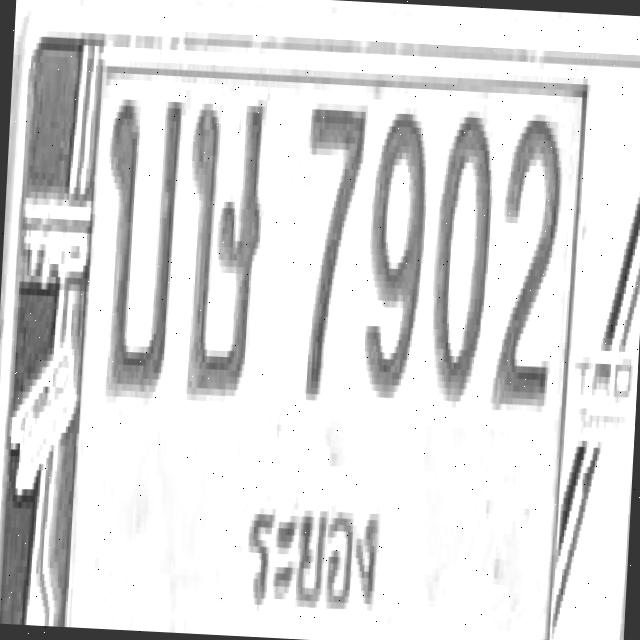0: (427, 110, 496, 403)
2: (492, 110, 564, 410)
35BorBaiMai: (96, 93, 185, 400)
48SorRueSi: (178, 94, 268, 400)
7: (294, 100, 366, 400)
9: (361, 106, 430, 400)
Rayong: (229, 470, 390, 626)
